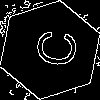C: (25, 25, 79, 70)
